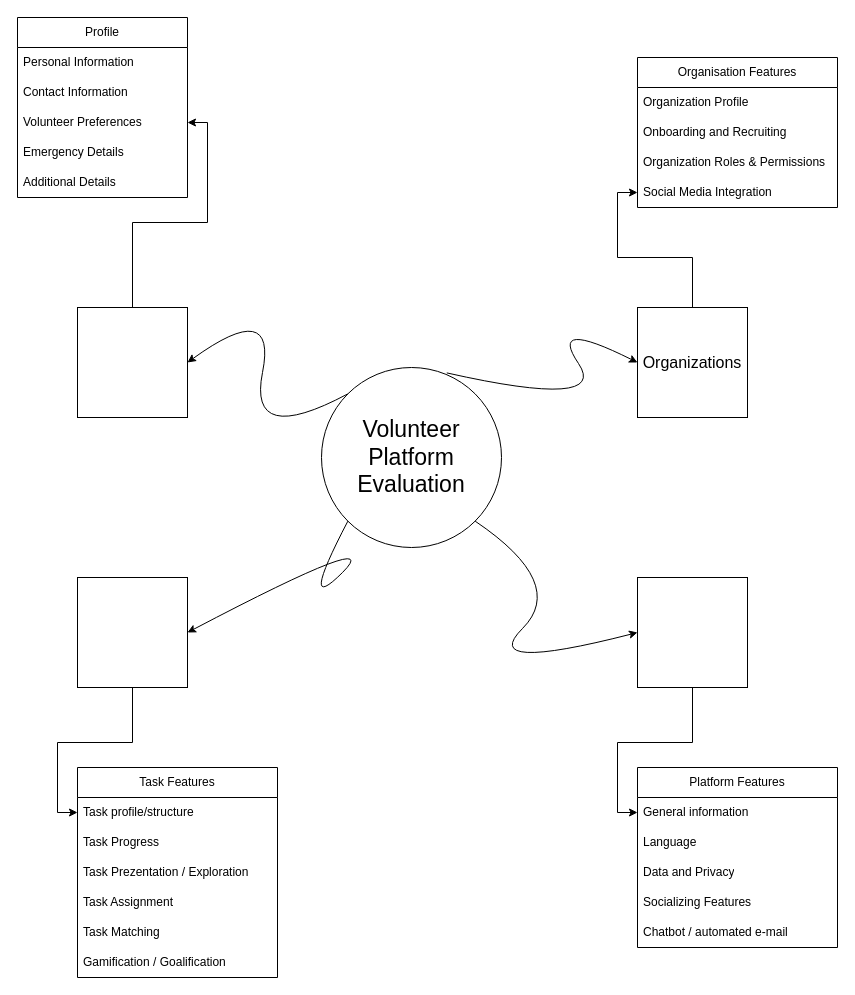
Image size: 855x995. Some labels were removed from this diagram. Each missing label, with the centre of its shape:
"Platform" goes at (692,632).
"Task" goes at (132,632).
"Volunteers" goes at (132,362).
